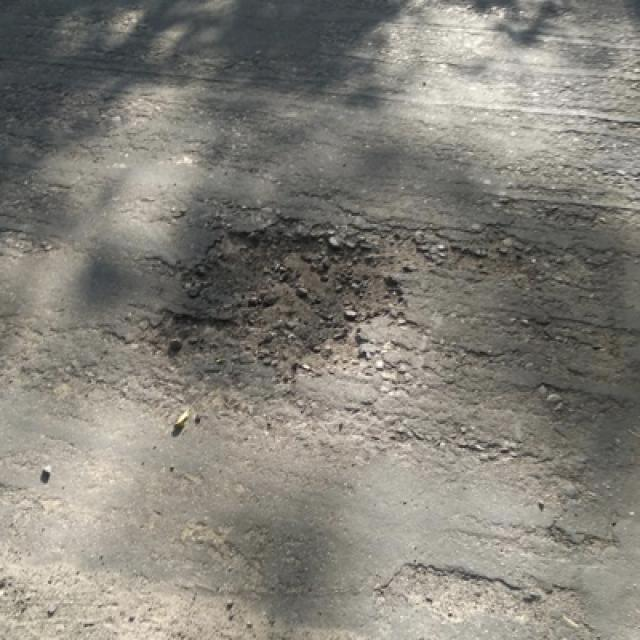Pothole: (173, 222, 413, 378), (387, 558, 536, 628)
